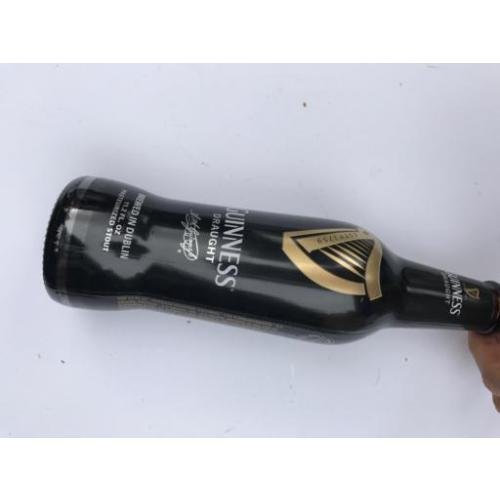glass: (46, 179, 500, 343)
